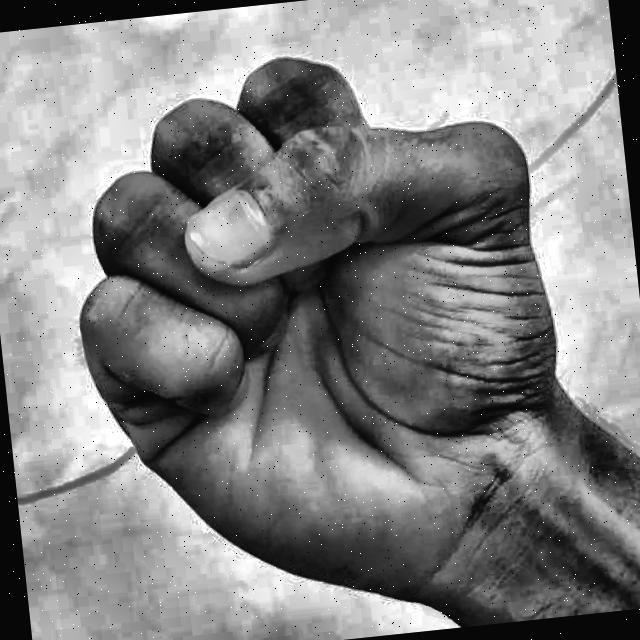Sha: (23, 10, 609, 640)
